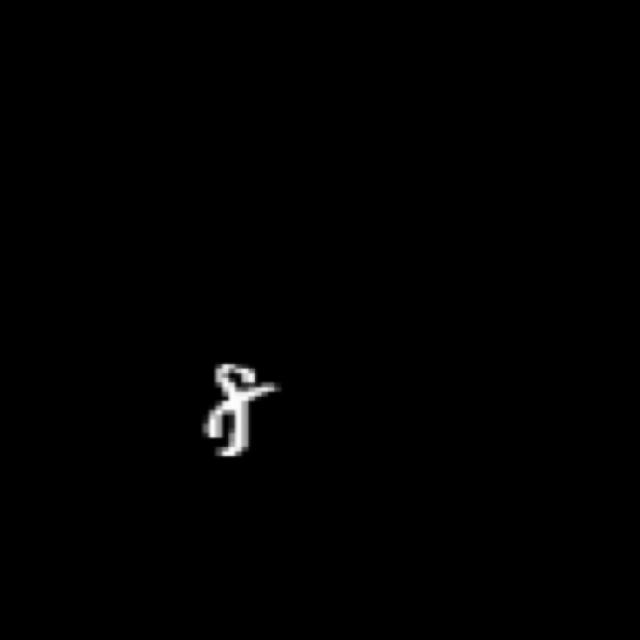eight -8-: (200, 351, 280, 464)
